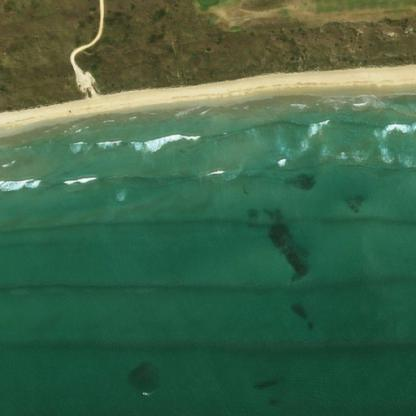ship: (133, 385, 157, 400)
